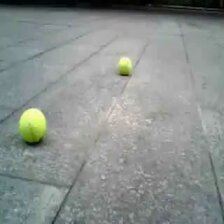tennis: (20, 108, 46, 143), (118, 56, 133, 73)
